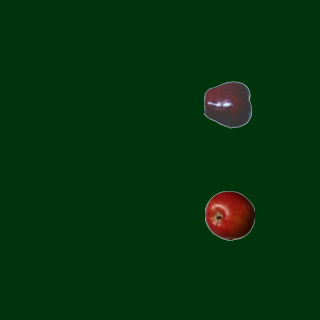Apple Braeburn: (204, 190, 254, 240)
Apple Red Delicious: (203, 79, 253, 129)
